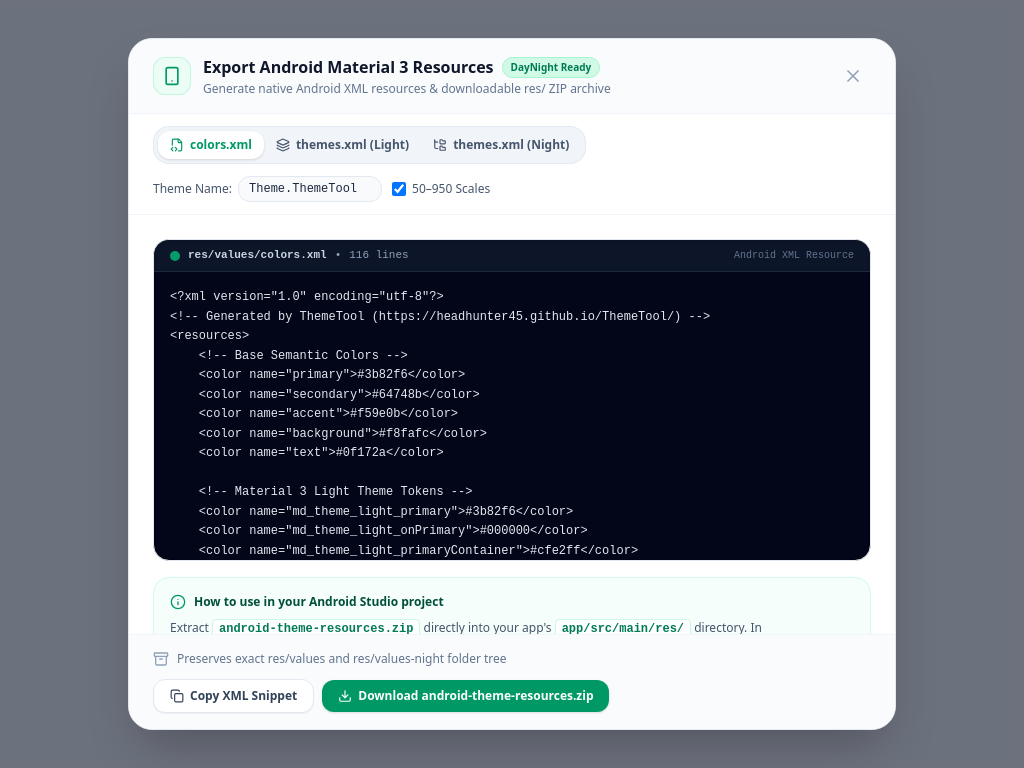
ExportAndroidModal (TT-016) › switches between colors.xml, themes.xml (Light), and themes.xml (Night) tabs
# Switch to Light themes.xml
Click the button "themes.xml (Light)" at (342, 145), box 264,131 -> 421,159
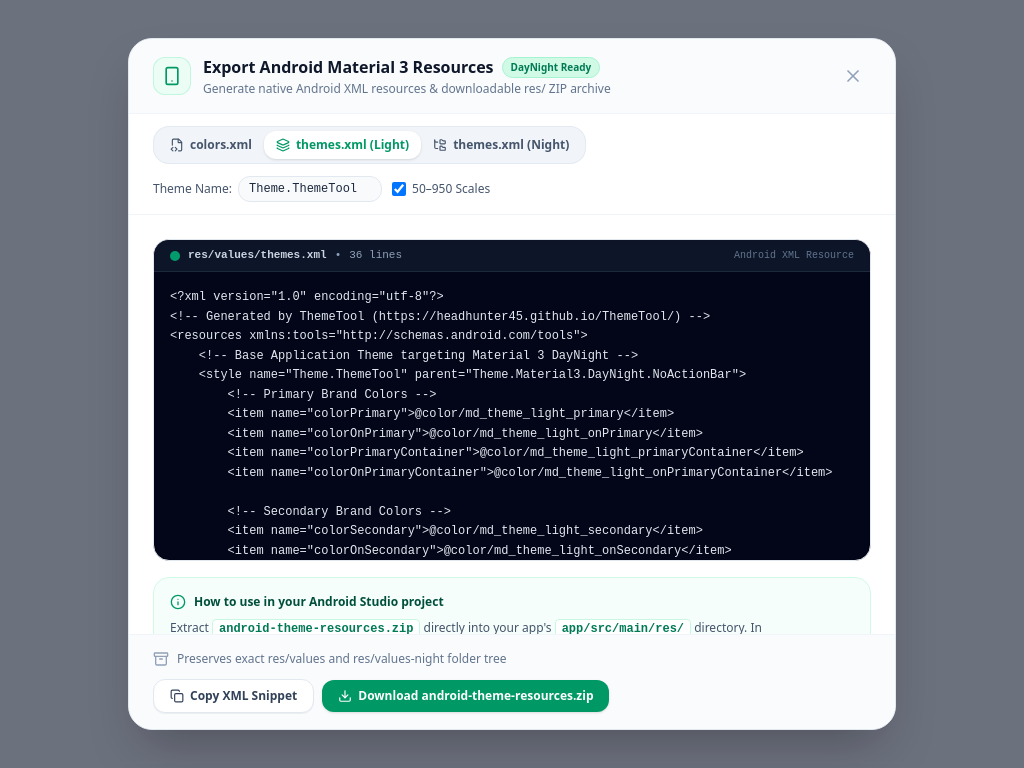
expect the text "res/values/themes.xml" is shown: met, box 188,248 -> 327,263
# Switch to Night themes.xml
Click the button "themes.xml (Night)" at (501, 145), box 421,131 -> 581,159
(page scrolled)
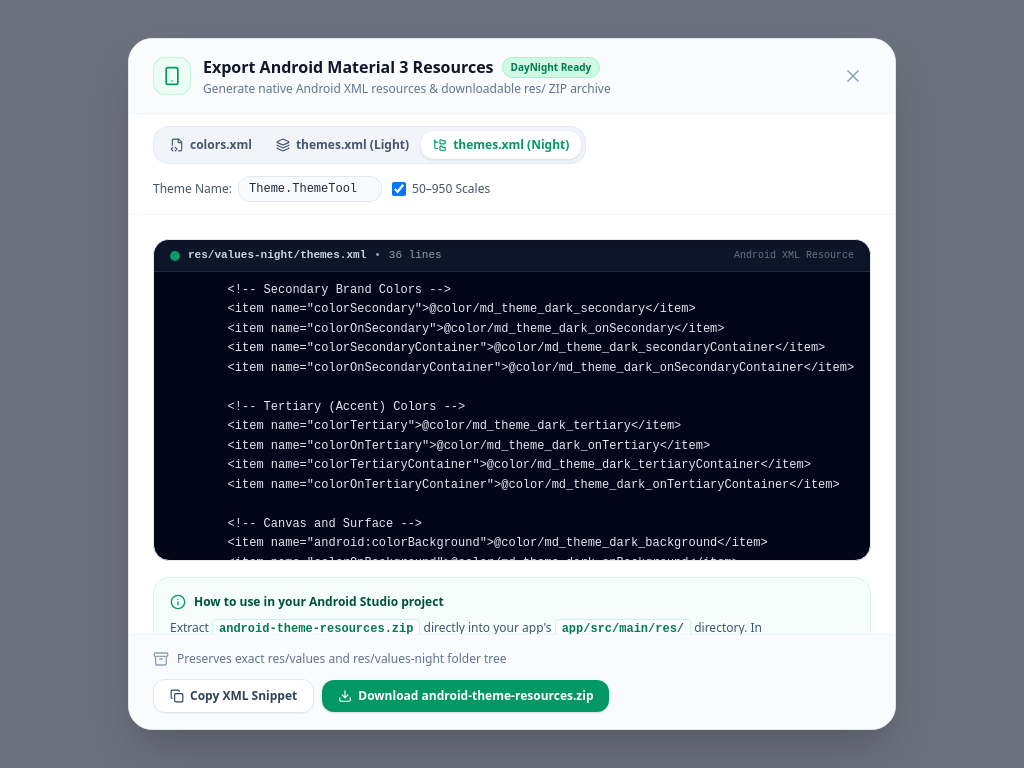
expect the text "res/values-night/themes.xml" is shown: met, box 188,248 -> 366,263
